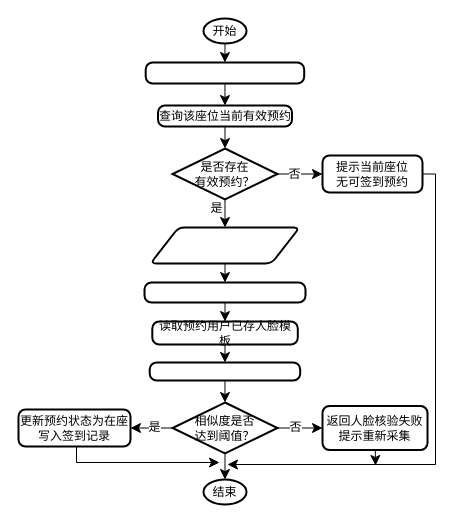
Image size: 463x522. Some labels were removed from this diagram. Here are the shapes that lost their labels. From the top down, the centre of each, then its label:
(x=224, y=72): 终端登录后读取 绑定座位信息
(x=224, y=245): 采集签到人脸图像 并上传到后端
(x=224, y=292): 调用AI服务提取当前人脸特征
(x=224, y=371): 计算当前特征 与模板相似度
